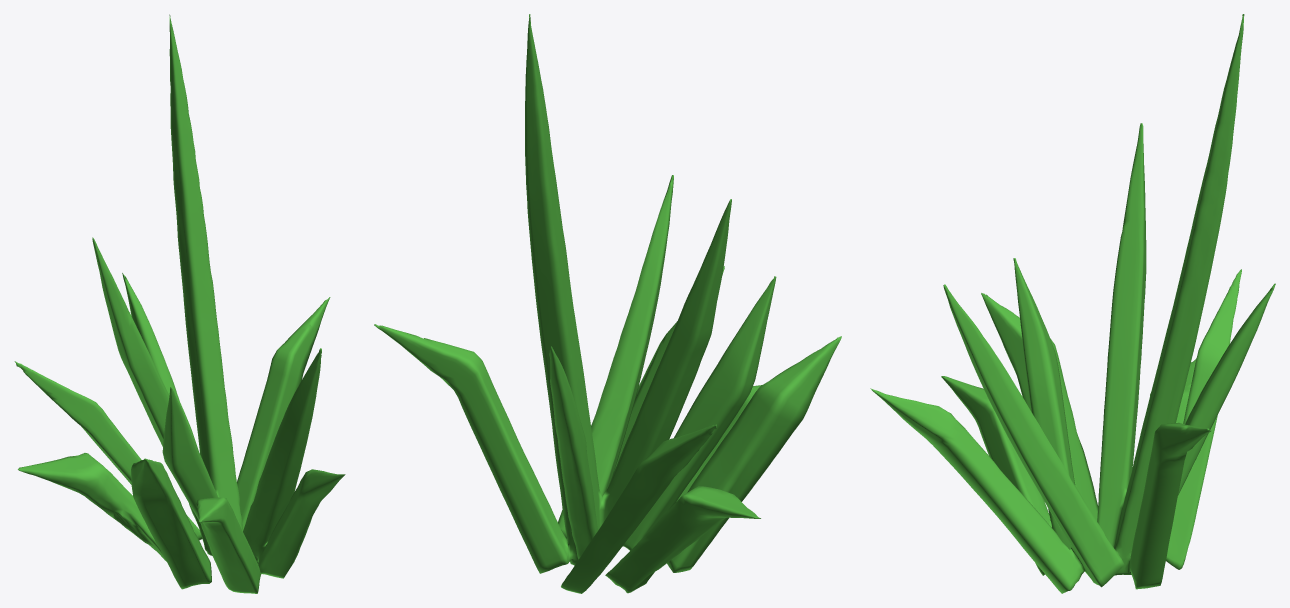
File: GRASS2.fbx
3 views of the same model, side by side, from view 1: azimuth 30°, elevation 25°; view 2: azimuth 150°, elevation 25°; view 3: azimuth 270°, elevation 25° (orthographic). The views are drawn at different scales.
Visible parts, largest first — view 1: трава; view 2: трава; view 3: трава.
Boxes of the visible parts, bbox=[...] form: трава: bbox=[14, 14, 345, 593]; трава: bbox=[374, 14, 841, 593]; трава: bbox=[870, 14, 1275, 593].
Bounding box in the file's own units: 13.53 × 20.78 × 13.54.
